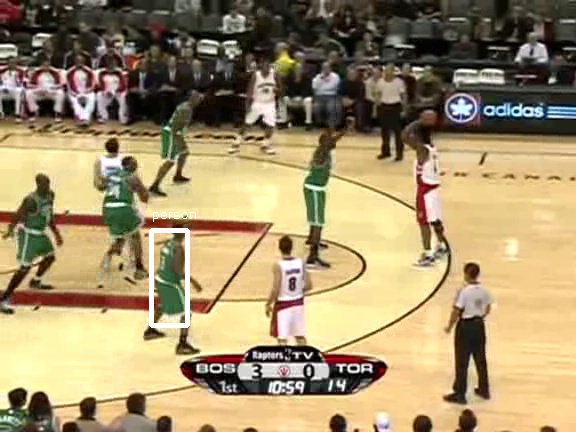person: (153, 240, 187, 321), (152, 240, 186, 321), (154, 240, 188, 321), (153, 239, 187, 320), (153, 241, 187, 322)
target_negative: (39, 193, 479, 290), (25, 316, 366, 423), (107, 209, 241, 419), (211, 60, 283, 248), (77, 379, 252, 408), (328, 318, 355, 371)
